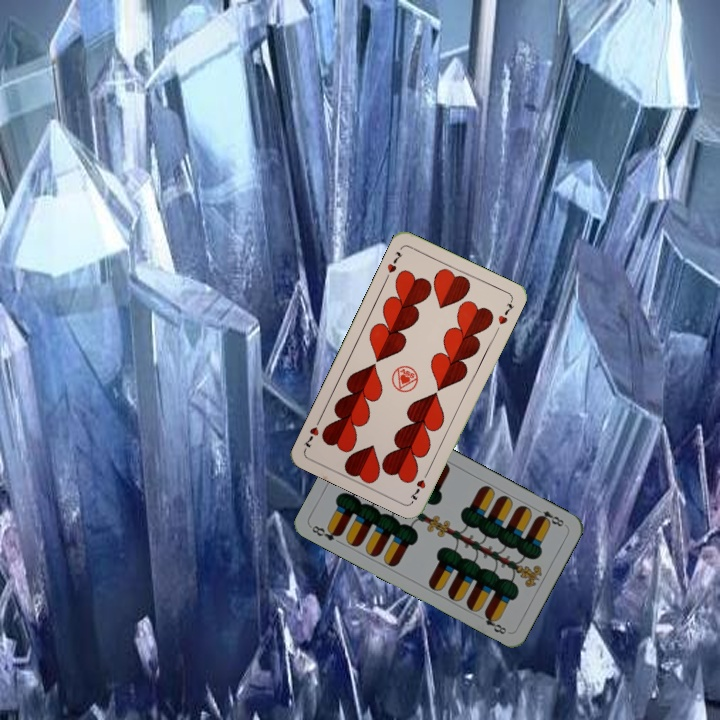E8: (531, 504, 568, 529), (308, 521, 344, 543)
H7: (406, 466, 432, 504), (382, 247, 405, 283)
